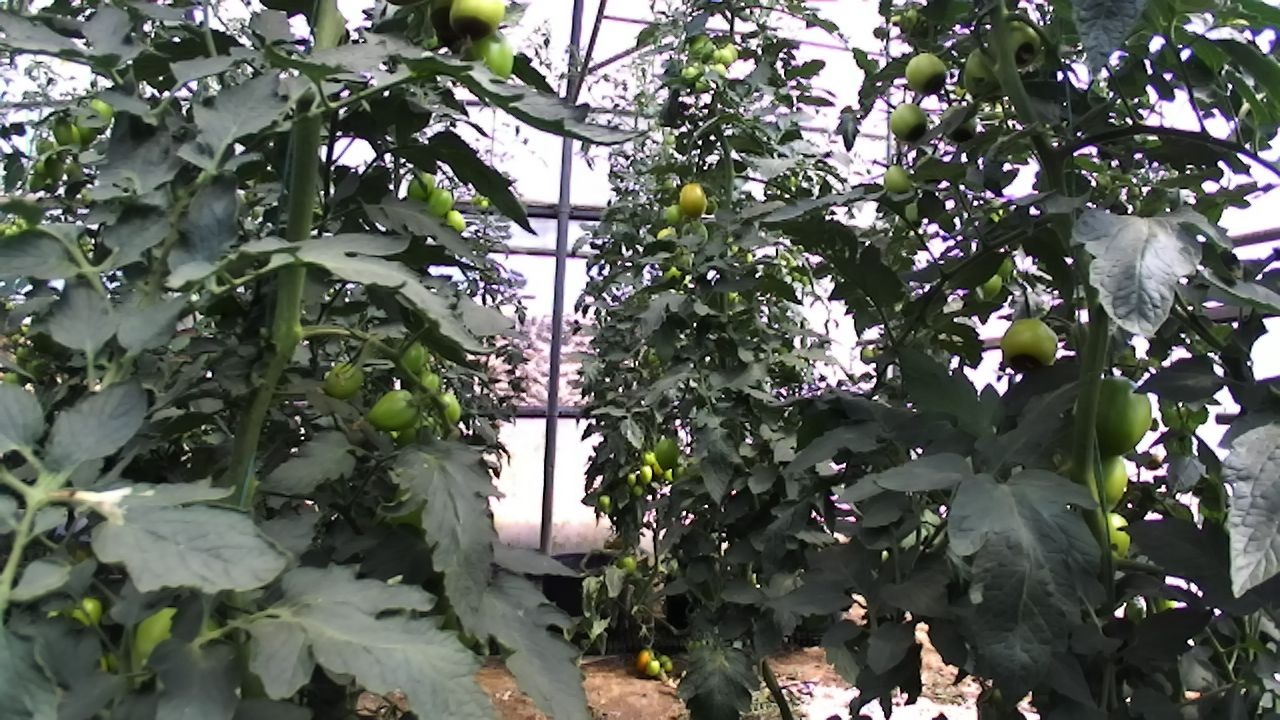tomato: (1066, 362, 1166, 473), (995, 307, 1073, 381), (125, 596, 198, 669), (456, 24, 524, 102), (1074, 446, 1142, 517), (358, 382, 433, 442), (441, 0, 526, 51), (897, 45, 964, 104), (960, 37, 1016, 107), (983, 10, 1044, 72), (881, 95, 940, 153), (311, 351, 372, 406), (936, 95, 984, 147), (387, 332, 427, 386), (419, 180, 466, 224), (402, 162, 446, 208), (674, 174, 713, 224), (878, 158, 923, 201), (434, 200, 475, 242), (83, 93, 119, 140), (49, 115, 88, 158), (972, 268, 1007, 307), (652, 434, 684, 474), (679, 215, 711, 253), (686, 30, 717, 65), (630, 644, 657, 681), (42, 152, 72, 184), (615, 550, 641, 581), (662, 199, 688, 228), (854, 340, 880, 369), (711, 43, 737, 70), (691, 70, 714, 97), (639, 446, 660, 469), (637, 462, 656, 487), (644, 655, 661, 680), (597, 490, 614, 514), (679, 64, 699, 84), (712, 60, 730, 80), (624, 468, 640, 490), (661, 657, 676, 675), (630, 483, 646, 499)
